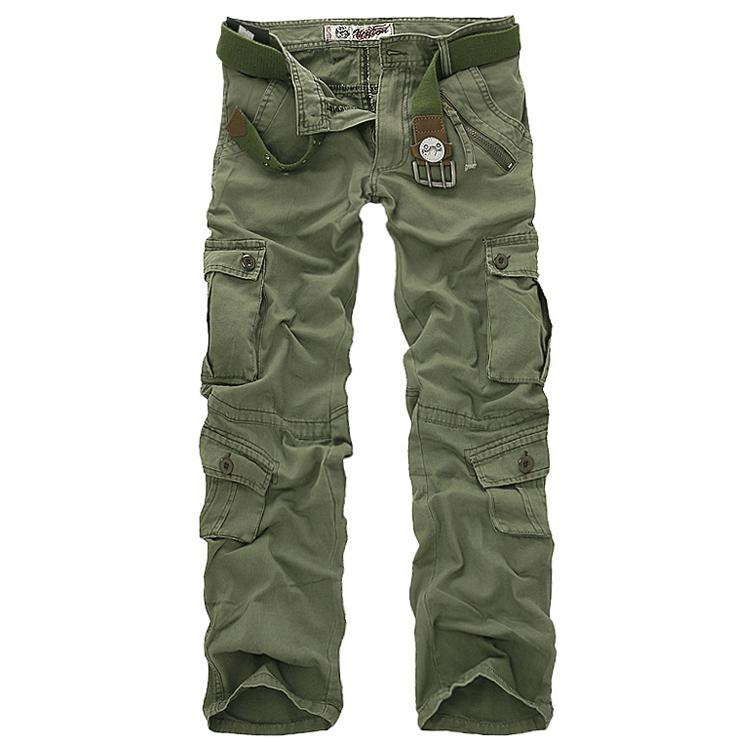pants: (197, 15, 560, 732)
